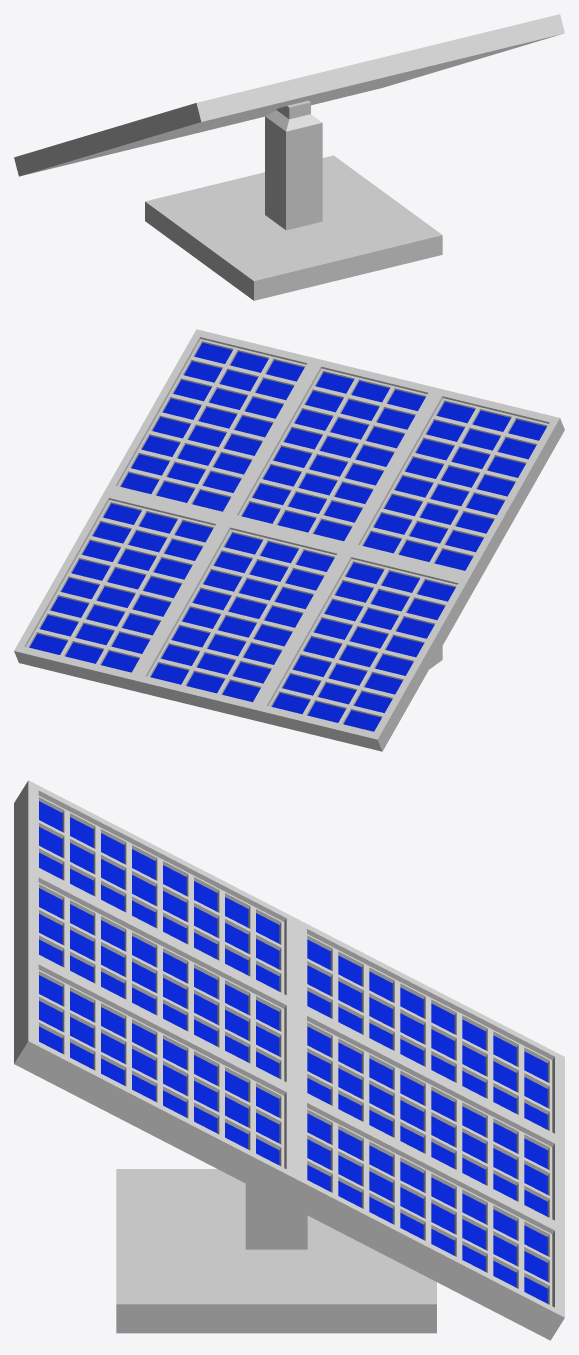
The model's file is solarpanel.glb.
3 views of the same model, one above another, from view 1: azimuth 30°, elevation 25°; view 2: azimuth 150°, elevation 25°; view 3: azimuth 270°, elevation 25° (orthographic). The views are drawn at different scales.
Parts seen in each view (by area): view 1: foot, foot.001; view 2: foot.001; view 3: foot.001, foot.
Boxes of the visible parts, bbox=[...] form: foot: bbox=[145, 100, 442, 300]; foot.001: bbox=[14, 14, 564, 176]; foot.001: bbox=[14, 329, 564, 751]; foot.001: bbox=[14, 780, 564, 1340]; foot: bbox=[116, 1169, 436, 1333].
Bounding box in the file's own units: 3.85 × 2.44 × 3.44.
